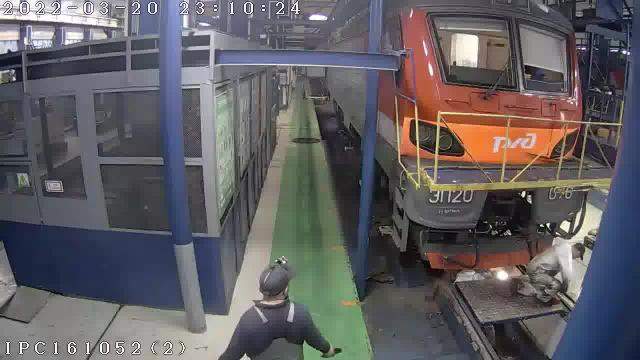person: (219, 257, 340, 359), (512, 242, 585, 304)
train: (376, 0, 586, 270)
